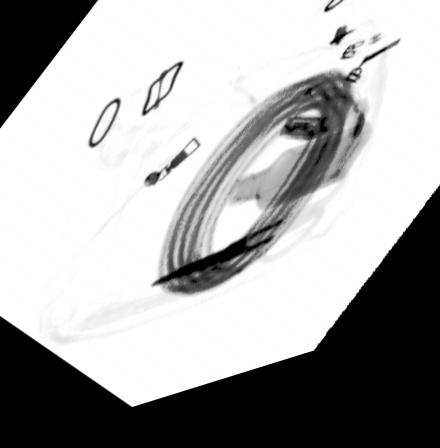Scissors: (149, 185, 346, 297)
